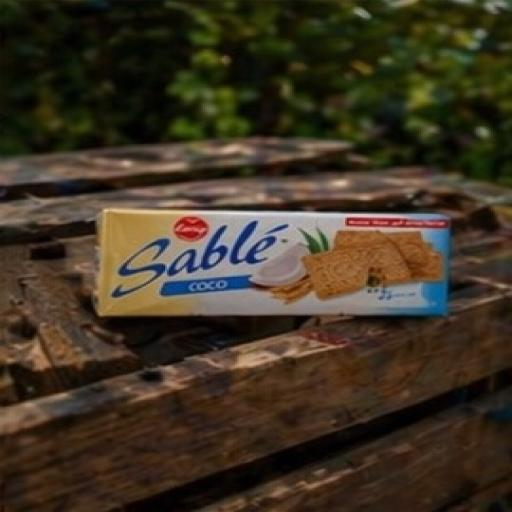sable: (59, 124, 479, 364)
